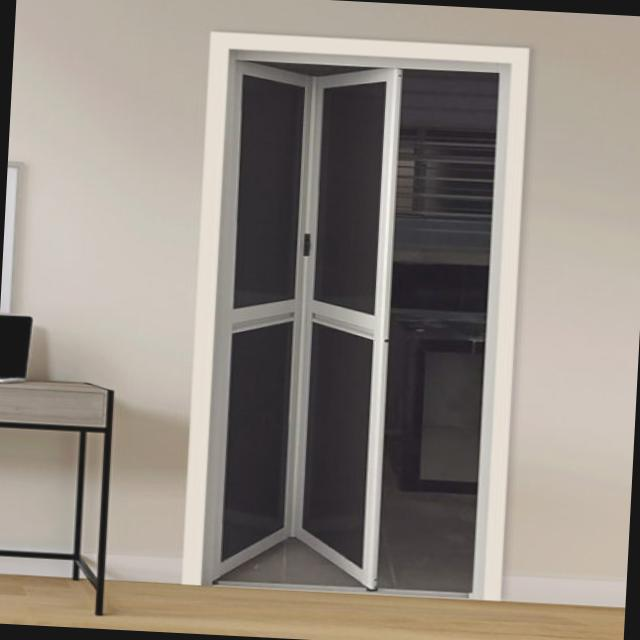door: (180, 30, 531, 605)
